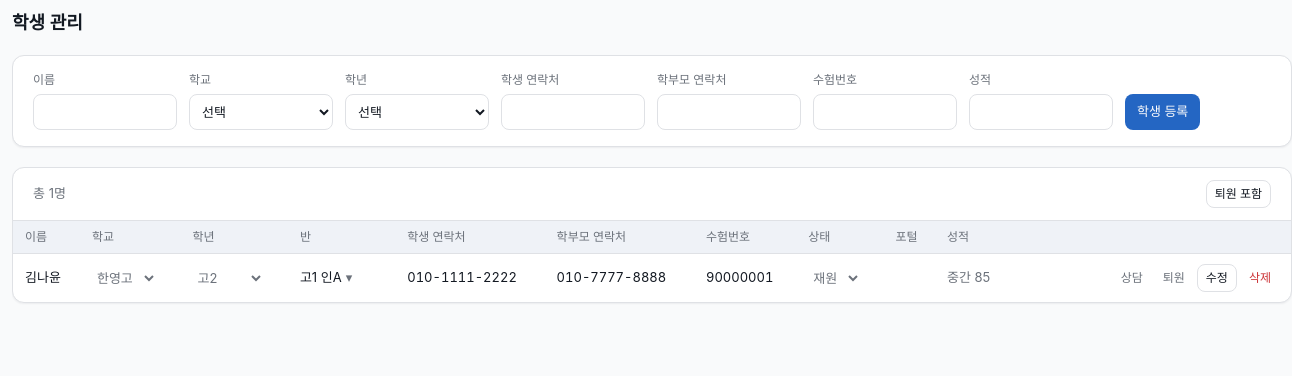
Scenario: StudentsPage class picker › lists active classes with the current ones checked
Click the button "고1 인A▾" at (326, 278), box [300,268,352,287]
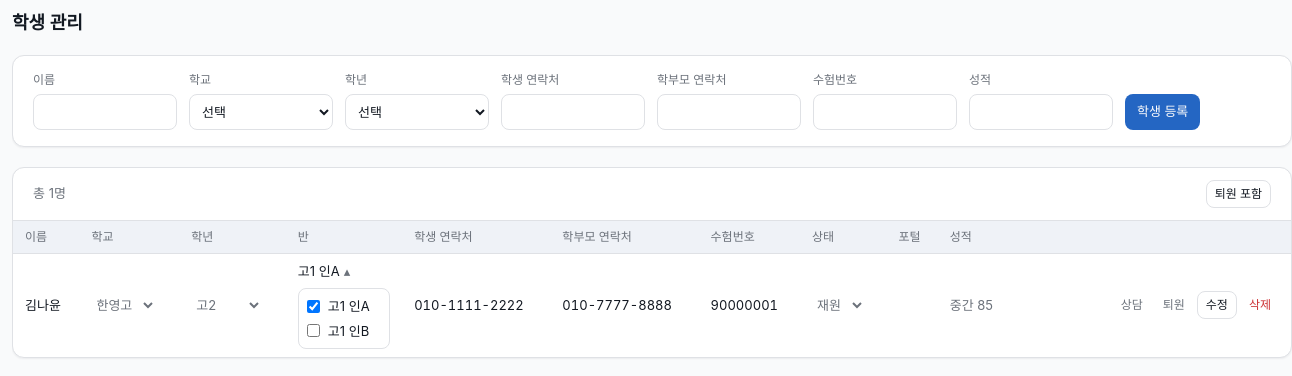
Result: the checkbox labelled "고1 인A" is checked at [307,300,320,313]
Result: the checkbox labelled "고1 인B" is not checked at [307,324,320,337]
